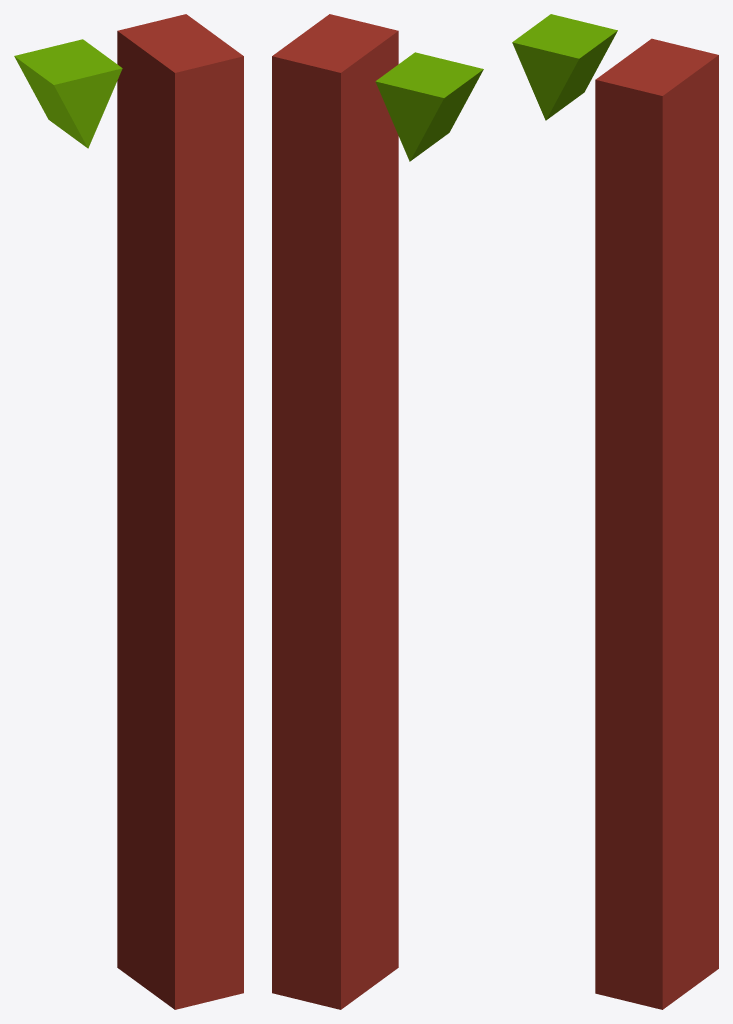
File: Laser_Enemy.fbx
3 views of the same model, side by side, from view 1: azimuth 30°, elevation 25°; view 2: azimuth 150°, elevation 25°; view 3: azimuth 330°, elevation 25° (orthographic). The views are drawn at different scales.
Visible parts, largest first — view 1: Laser, Laser Projectile; view 2: Laser, Laser Projectile; view 3: Laser, Laser Projectile.
Boxes of the visible parts, bbox=[...] form: Laser: bbox=[117, 14, 243, 1009]; Laser Projectile: bbox=[14, 39, 122, 148]; Laser: bbox=[272, 14, 398, 1009]; Laser Projectile: bbox=[375, 52, 483, 161]; Laser: bbox=[595, 38, 718, 1009]; Laser Projectile: bbox=[512, 14, 617, 120].
Size of the model in its own units: 500 by 2600 by 290.
